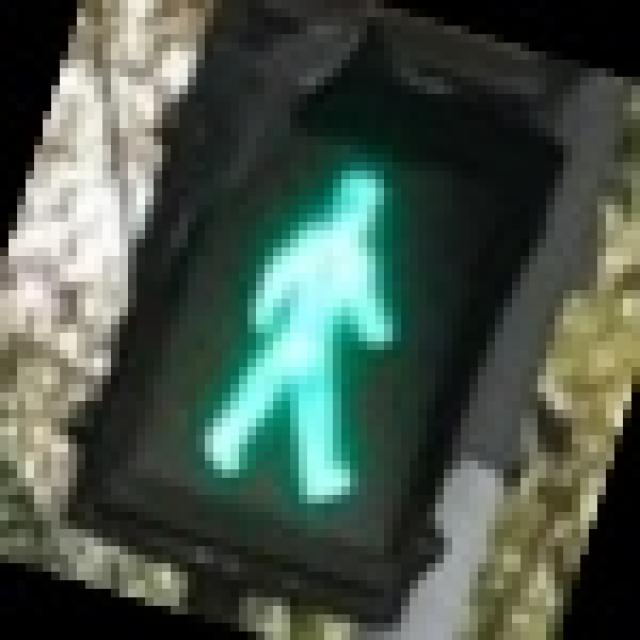green_light: (111, 59, 503, 554)
